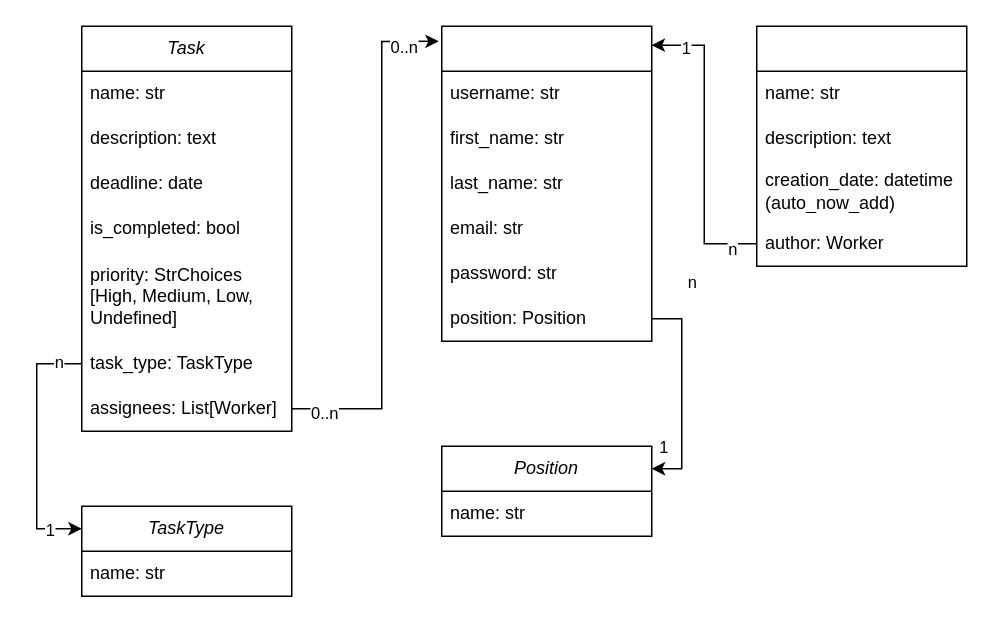
Image size: 993x623. Some labels were removed from this diagram. The shapes that lost their labels are listed below. From the top down, each one's box as (x1, y1, x2, y2) in pixels, then its label:
(755, 25, 967, 266): News
(440, 25, 652, 341): Worker (AbstractUser)
